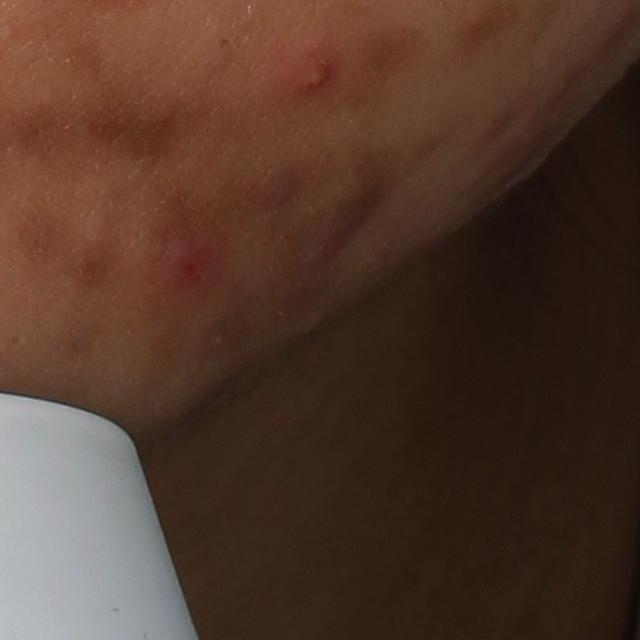papule: (156, 235, 222, 301)
